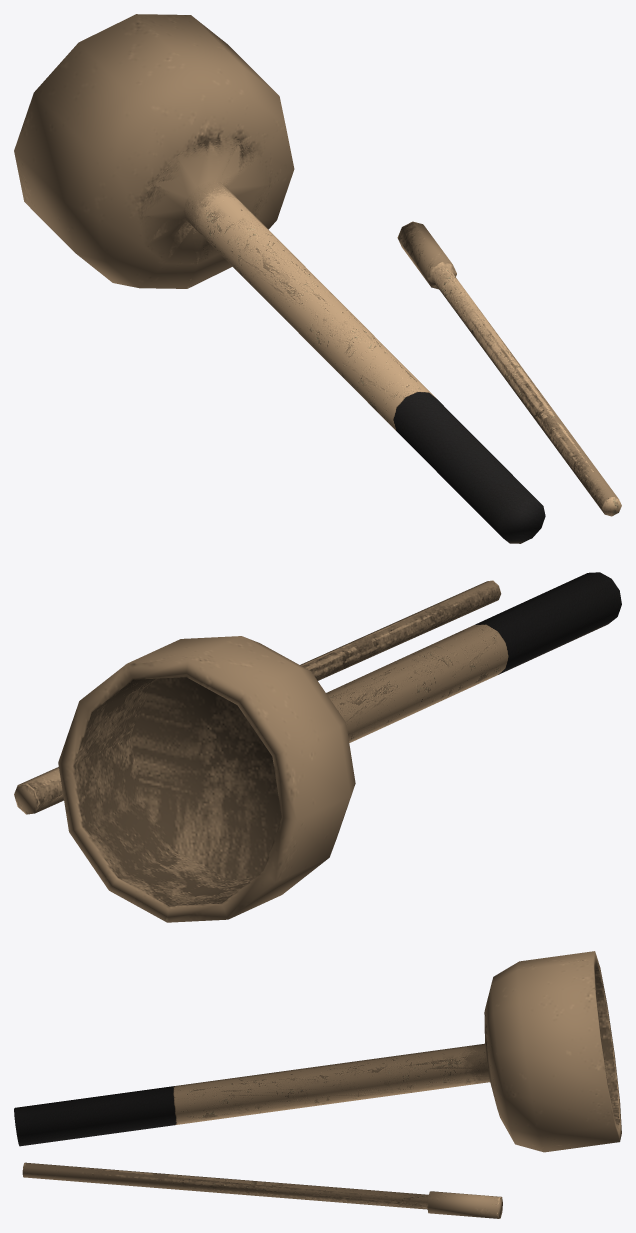
The model's file is Instruments_03.fbx.
3 renders of one model, top to bottom at view 1: azimuth 30°, elevation 25°; view 2: azimuth 150°, elevation 25°; view 3: azimuth 270°, elevation 25°, orthographic. The views are drawn at different scales.
Parts seen in each view (by area): view 1: Instruments_03; view 2: Instruments_03; view 3: Instruments_03.
Part boxes in pixels (x1,y1,x2,y2): Instruments_03: [14, 14, 621, 543]; Instruments_03: [14, 572, 621, 922]; Instruments_03: [14, 951, 621, 1218].
Bounding box in the file's own units: 9.39 × 6.54 × 19.51.
Materials: 1 (1 with a texture image).
